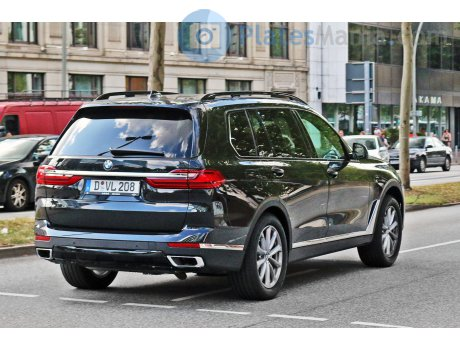License Plates: (94, 180, 137, 191)
